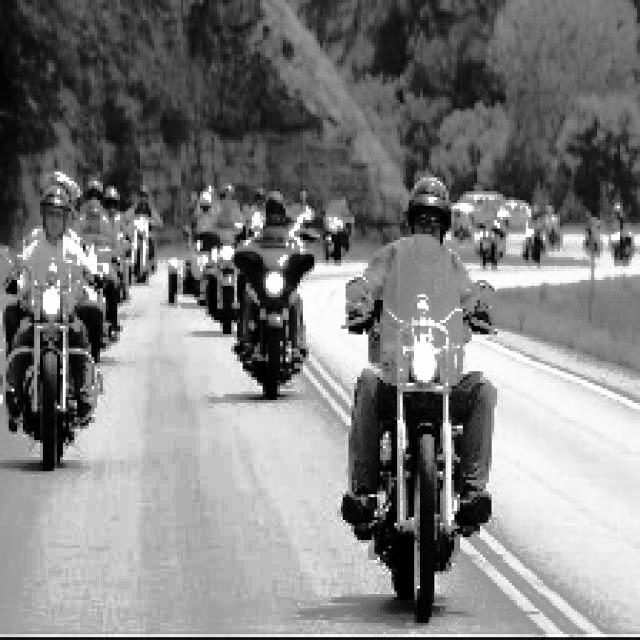Bike: (342, 300, 474, 606), (20, 277, 96, 468), (239, 243, 309, 395)
